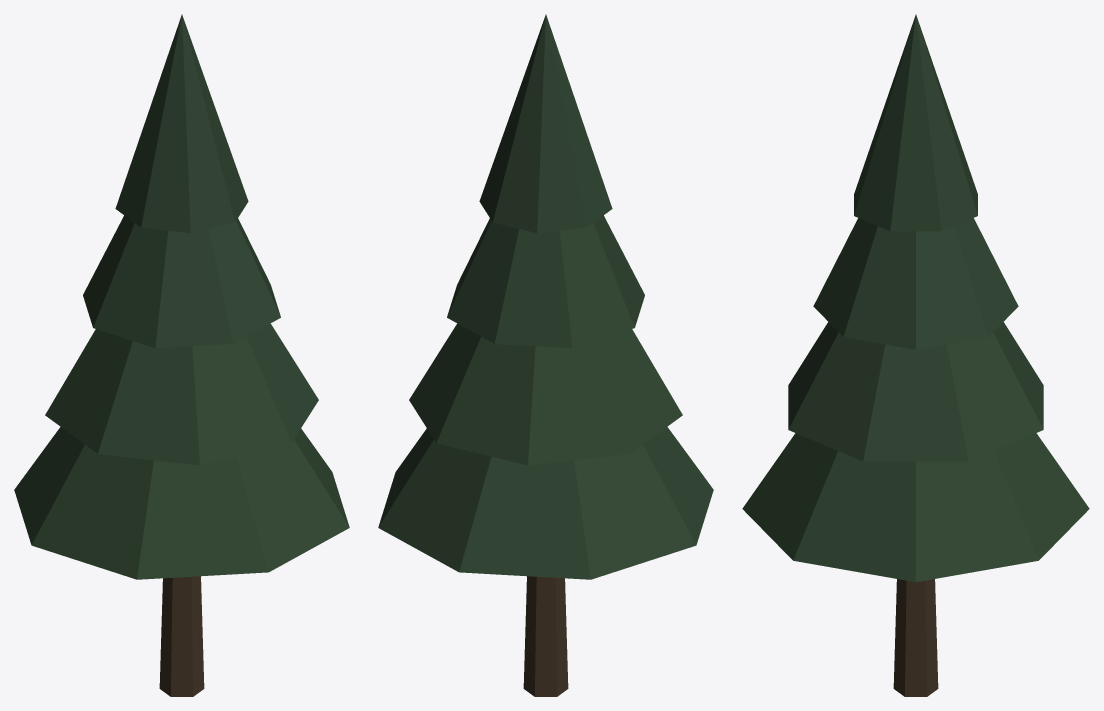
File: flora_cone.glb
3 renders of one model, left to right at view 1: azimuth 30°, elevation 25°; view 2: azimuth 150°, elevation 25°; view 3: azimuth 270°, elevation 25°, orthographic.
Parts seen in each view (by area): view 1: FLORA_ConeCrown, FLORA_ConeTrunk; view 2: FLORA_ConeCrown, FLORA_ConeTrunk; view 3: FLORA_ConeCrown, FLORA_ConeTrunk.
Boxes of the visible parts, bbox=[...] form: FLORA_ConeCrown: bbox=[14, 14, 349, 579]; FLORA_ConeTrunk: bbox=[159, 576, 204, 696]; FLORA_ConeCrown: bbox=[378, 14, 713, 579]; FLORA_ConeTrunk: bbox=[523, 576, 568, 696]; FLORA_ConeCrown: bbox=[742, 14, 1089, 582]; FLORA_ConeTrunk: bbox=[893, 579, 938, 696].
Size of the model in its own units: 14 by 30 by 14.
